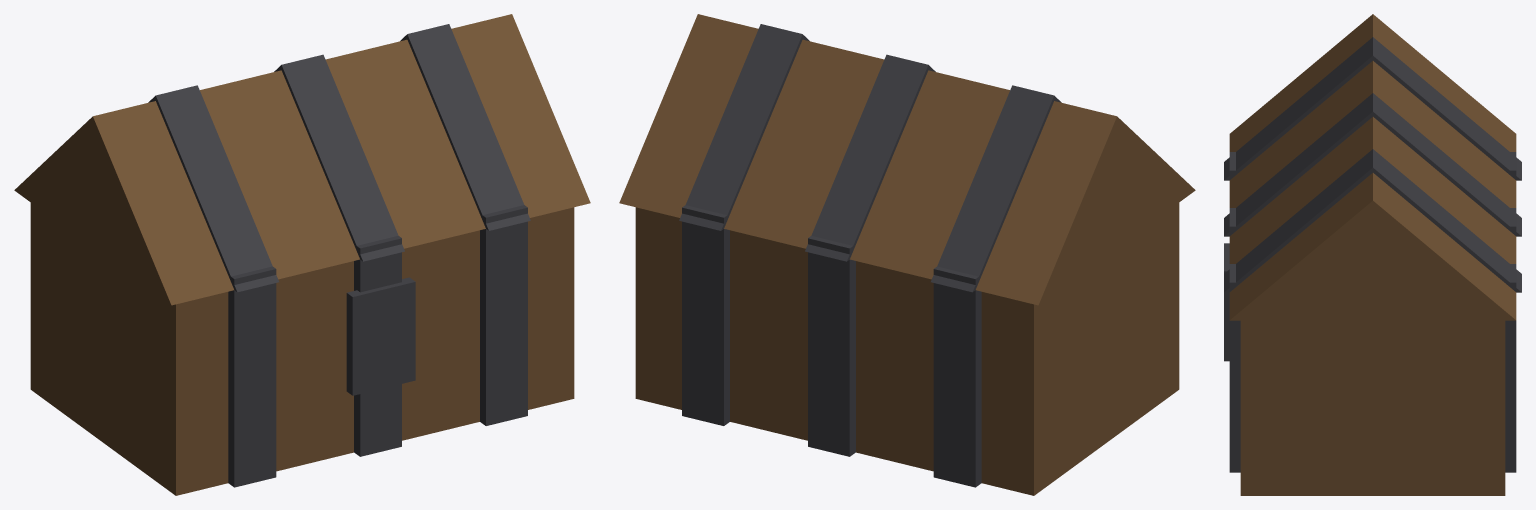
File: ReliquaryIron.fbx
3 views of the same model, side by side, from view 1: azimuth 30°, elevation 25°; view 2: azimuth 150°, elevation 25°; view 3: azimuth 270°, elevation 25° (orthographic). The views are drawn at different scales.
Visible parts, largest first — view 1: ReliquaryIron; view 2: ReliquaryIron; view 3: ReliquaryIron.
Part boxes in pixels (x1,y1,x2,y2): ReliquaryIron: [14, 14, 590, 495]; ReliquaryIron: [619, 14, 1195, 495]; ReliquaryIron: [1224, 14, 1521, 495].
Bounding box in the file's own units: 0.4 × 0.305 × 0.27.
